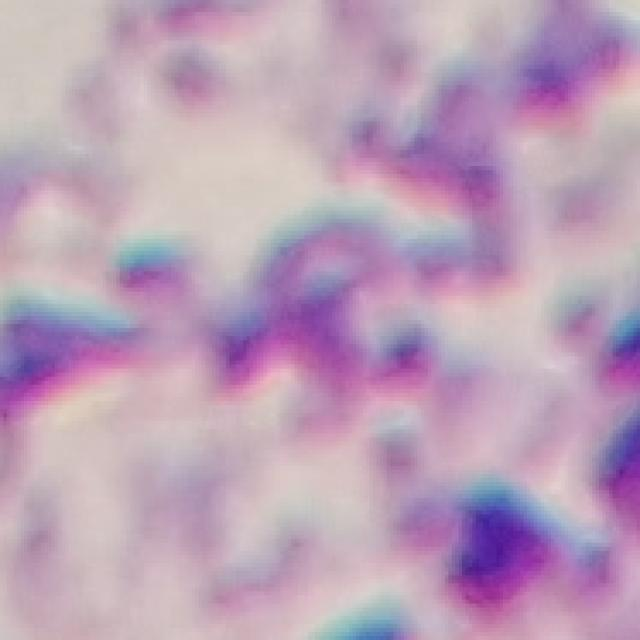non-sperm: (206, 204, 440, 418)
